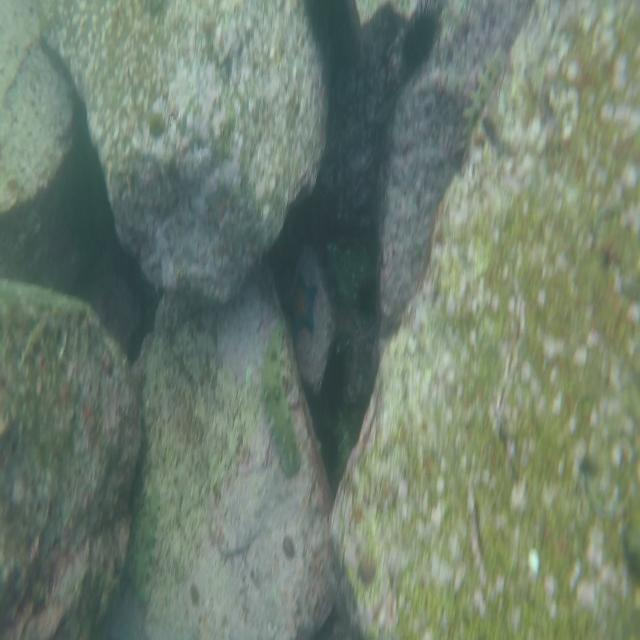echinus: (398, 0, 441, 66)
holothurian: (261, 329, 300, 476), (130, 484, 160, 609)
starfish: (281, 274, 316, 341)
